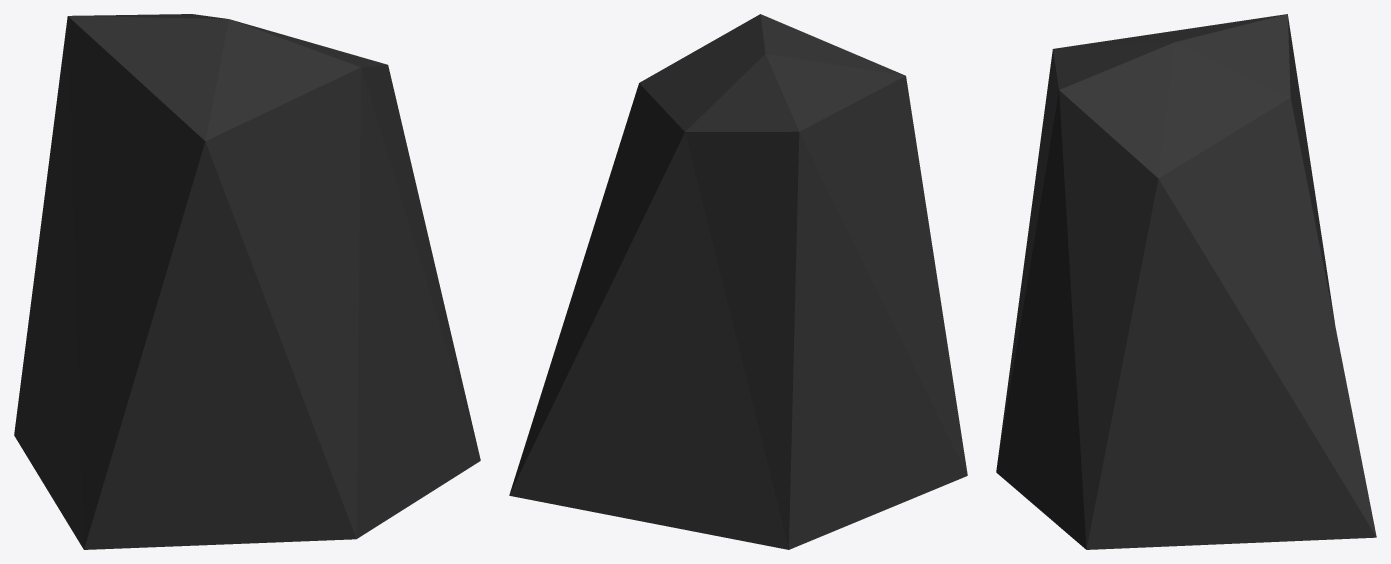
File: RockSmall_4.fbx
The picture shows the model from 3 angles, left to right: view 1: azimuth 30°, elevation 25°; view 2: azimuth 150°, elevation 25°; view 3: azimuth 270°, elevation 25°; orthographic projection. The views are drawn at different scales.
Parts seen in each view (by area): view 1: RockSmall_4; view 2: RockSmall_4; view 3: RockSmall_4.
Part boxes in pixels (box(x1,y1,x2,y2)): RockSmall_4: box(14, 14, 480, 549); RockSmall_4: box(509, 14, 967, 549); RockSmall_4: box(996, 14, 1376, 549).
Bounding box in the file's own units: 471 × 528 × 437.
